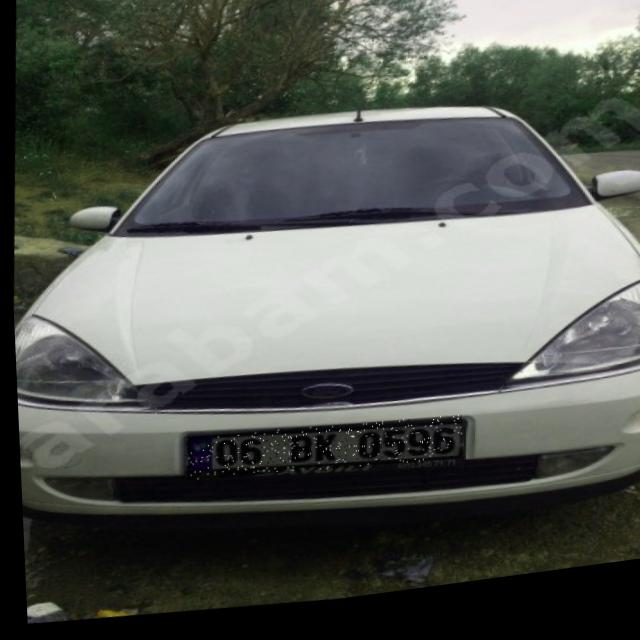license_plate: (181, 413, 459, 499)
